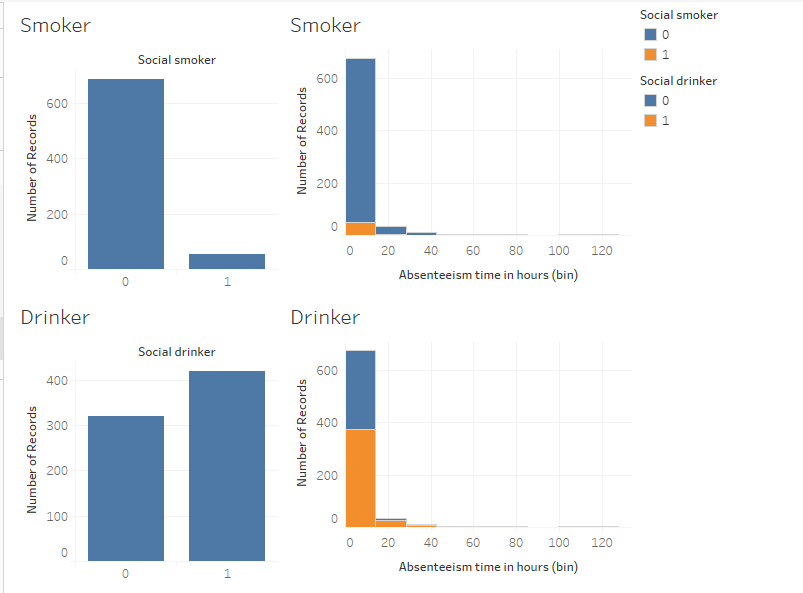

The dashboard page shown, as its layout file describes it:
{"tool":"tableau","page":{"name":"Dashboard 10","canvas":[800,600],"ordinal":1},"visuals":[{"type":"worksheet","title":"Sheet 29","mark":"Automatic","rows":["Number of Records"],"cols":["Social smoker"],"box":[8,8,270.3,292]},{"type":"worksheet","title":"Sheet 30","mark":"Automatic","rows":["Number of Records"],"cols":["Absenteeism time in hours (bin)"],"box":[278.3,8,353.7,292]},{"type":"legend","title":"Sheet 30","param":"[federated.0x288y2192xy9k11zkc5r09wspmi].[none:Social smoker:ok]","box":[632,8,160,66]},{"type":"legend","title":"Sheet 32","param":"[federated.0x288y2192xy9k11zkc5r09wspmi].[none:Social drinker:ok]","box":[632,74,160,66]},{"type":"worksheet","title":"Sheet 31","mark":"Automatic","rows":["Number of Records"],"cols":["Social drinker"],"box":[8,300,270.3,292]},{"type":"worksheet","title":"Sheet 32","mark":"Automatic","rows":["Number of Records"],"cols":["Absenteeism time in hours (bin)"],"box":[278.3,300,353.7,292]}]}

Visuals, with their boxes in screenshot pixels (x1, y1, x2, y2), scaled from the page's 800x600 canvas onto the 803x593 screenshot:
"Sheet 29" worksheet: 8,8,279,296
"Sheet 30" worksheet: 279,8,634,296
"Sheet 30" legend: 634,8,795,73
"Sheet 32" legend: 634,73,795,138
"Sheet 31" worksheet: 8,296,279,585
"Sheet 32" worksheet: 279,296,634,585
